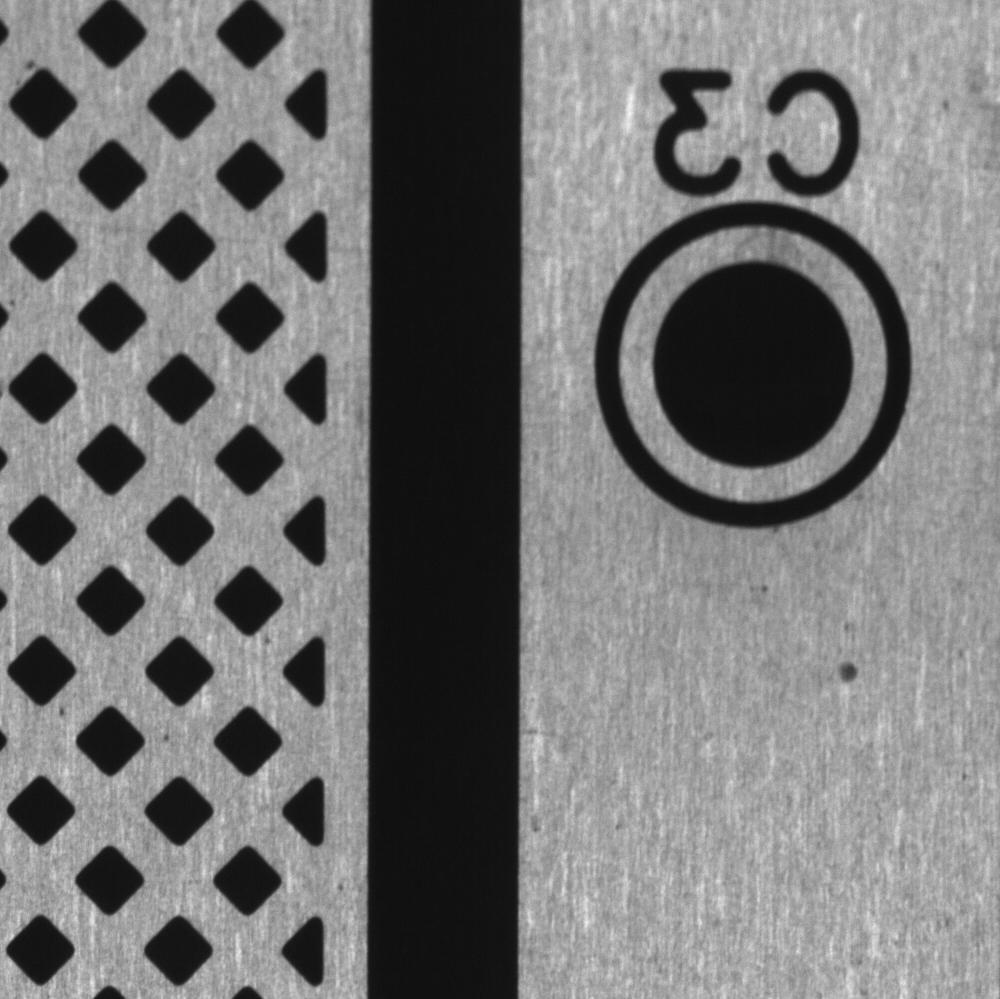Etching: (823, 635, 873, 697)
